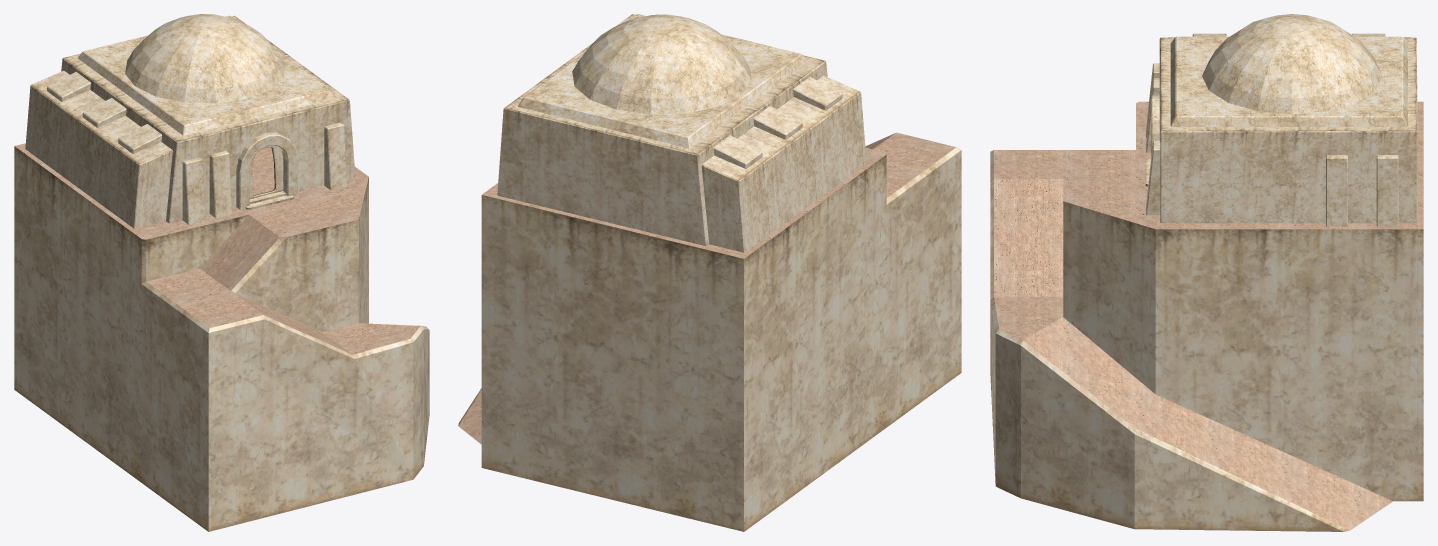
The model's file is ply_tato_house_sm_s02_fp1_r0_mesh_l0.fbx.
3 views of the same model, side by side, from view 1: azimuth 30°, elevation 25°; view 2: azimuth 150°, elevation 25°; view 3: azimuth 270°, elevation 25° (orthographic). The views are drawn at different scales.
Visible parts, largest first — view 1: mesh_node; view 2: mesh_node; view 3: mesh_node.
Boxes of the visible parts, x1,y1,x2,y2 form: mesh_node: (14, 14, 429, 531); mesh_node: (458, 14, 961, 531); mesh_node: (990, 14, 1423, 531).
Size of the model in its own units: 20.59 by 25.62 by 23.82.
